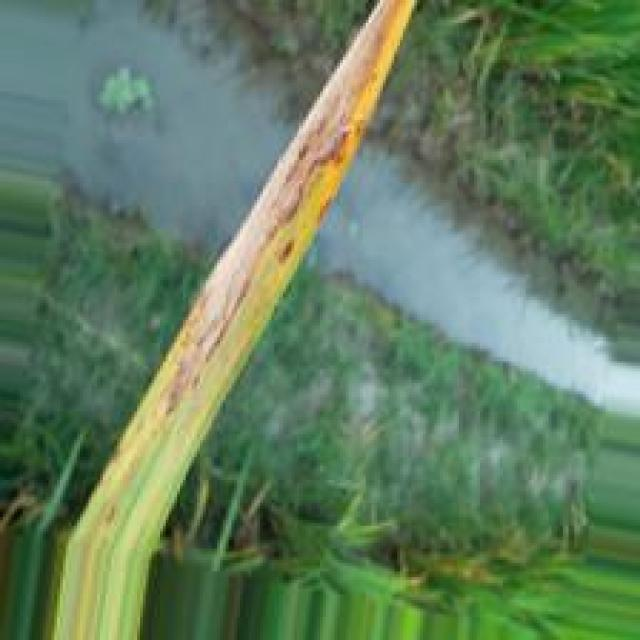Rice False Smut: (160, 3, 403, 422)
